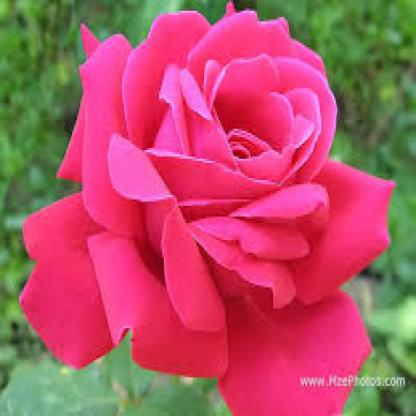Rose-Mawar: (17, 7, 398, 415)
